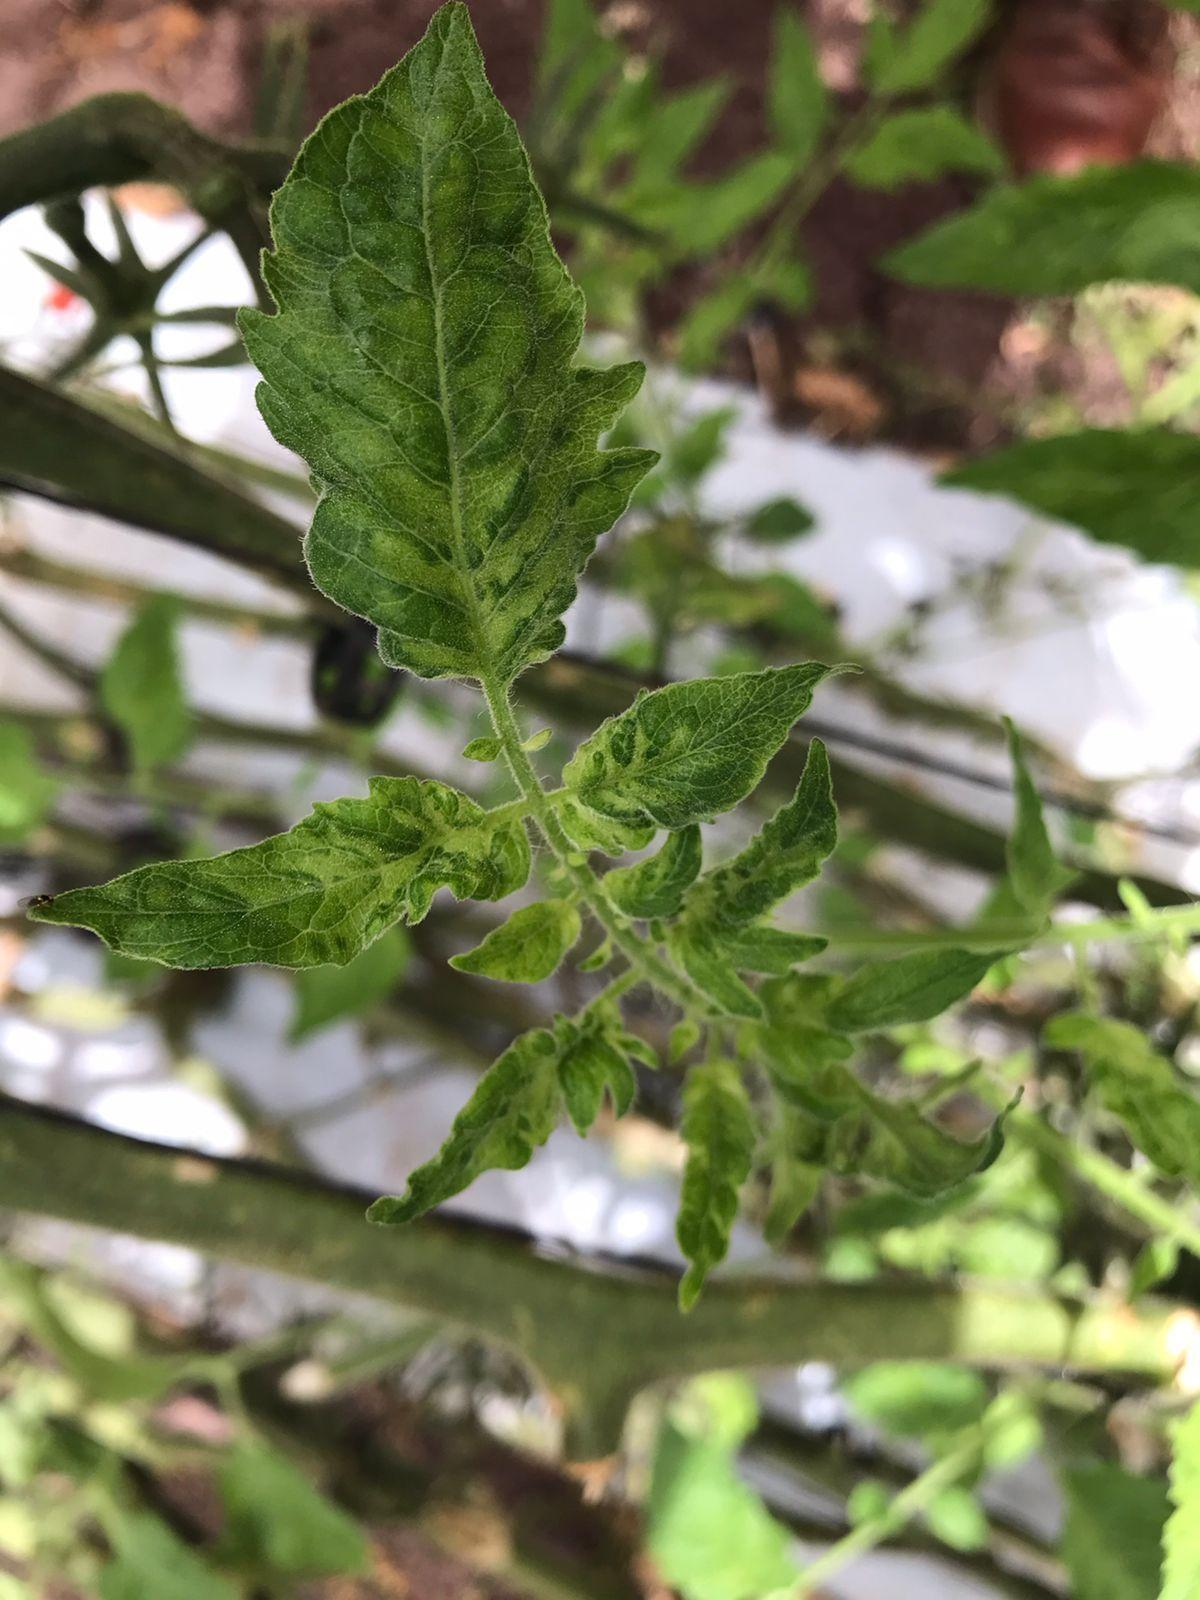Hoja rugoso: (241, 6, 650, 690), (38, 779, 531, 969), (371, 997, 653, 1225), (666, 743, 837, 1013), (562, 663, 828, 826), (676, 1060, 756, 1311), (450, 900, 581, 981), (603, 825, 703, 918)
Pedunculo rugoso: (480, 678, 621, 925)
